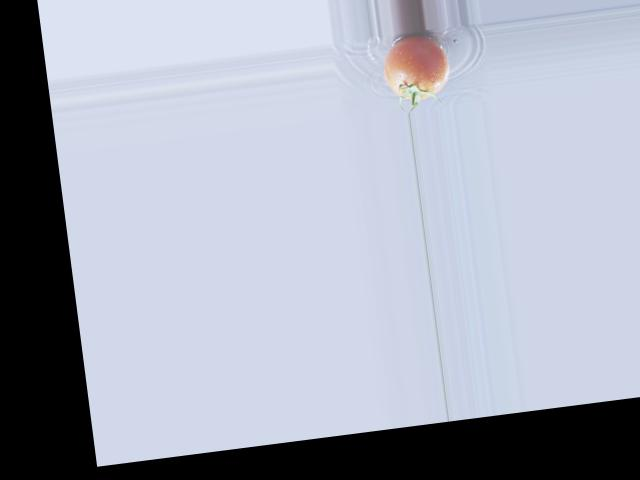tomato: (380, 31, 452, 102)
